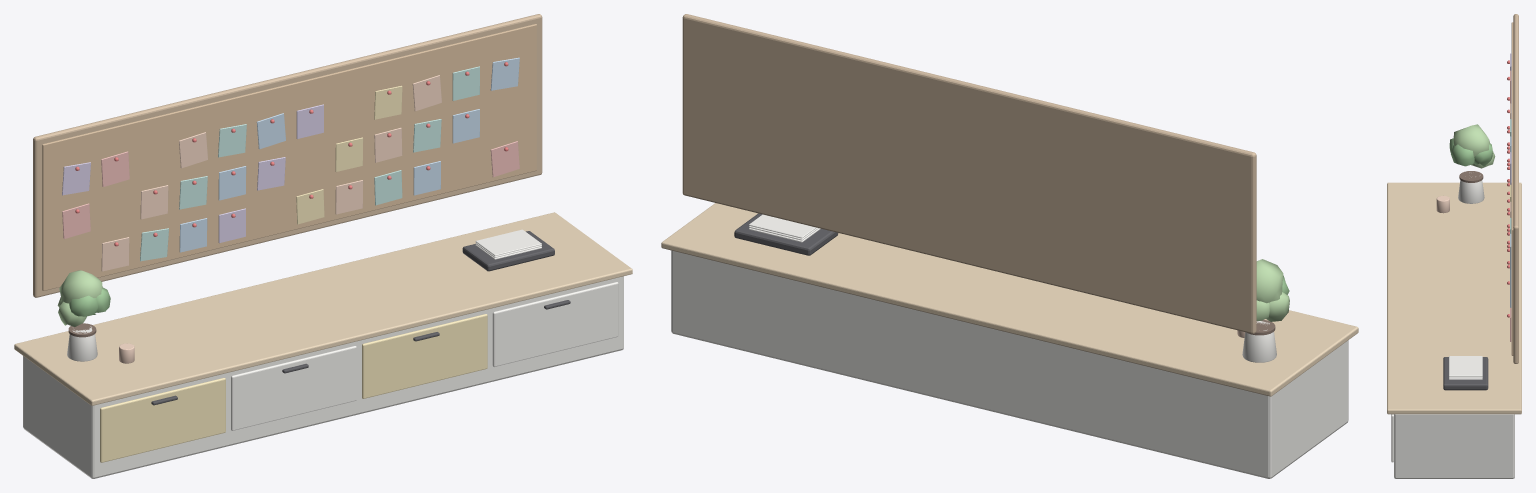
File: order.glb
3 renders of one model, left to right at view 1: azimuth 30°, elevation 25°; view 2: azimuth 150°, elevation 25°; view 3: azimuth 270°, elevation 25°, orthographic. The views are drawn at different scales.
Parts seen in each view (by area): view 1: order_cork, order_oak, order_white, order_butter, order_oak_edge, order_peach, order_mint, order_sky, order_lilac, order_coral, order_black, order_leaf_light (+2 smaller); view 2: order_oak_edge, order_white, order_oak, order_leaf_light, order_black, order_paper; view 3: order_oak, order_white, order_oak_edge, order_cork, order_leaf_light, order_black, order_paper, order_leaf, order_pin_red, order_peach, order_soil, order_sky.
Boxes of the visible parts, x1,y1,x2,y2 form: order_cork: [42, 24, 536, 290]; order_oak: [14, 212, 632, 405]; order_white: [23, 276, 623, 478]; order_butter: [100, 85, 487, 462]; order_oak_edge: [33, 14, 542, 297]; order_peach: [101, 75, 441, 363]; order_mint: [140, 66, 479, 261]; order_sky: [179, 57, 519, 252]; order_lilac: [62, 104, 323, 243]; order_coral: [62, 141, 519, 238]; order_black: [151, 231, 570, 405]; order_leaf_light: [57, 270, 102, 326]; order_oak_edge: [682, 14, 1256, 333]; order_white: [671, 250, 1348, 478]; order_oak: [661, 203, 1358, 396]; order_leaf_light: [1256, 259, 1289, 321]; order_black: [734, 213, 838, 255]; order_paper: [749, 214, 820, 242]; order_oak: [1387, 182, 1521, 414]; order_white: [1391, 172, 1514, 478]; order_oak_edge: [1513, 14, 1518, 363]; order_cork: [1511, 22, 1513, 355]; order_leaf_light: [1453, 124, 1495, 168]; order_black: [1443, 357, 1488, 390]; order_paper: [1449, 356, 1482, 379]; order_leaf: [1449, 138, 1492, 166]; order_pin_red: [1507, 60, 1509, 317]; order_peach: [1436, 103, 1511, 217]; order_soil: [1459, 171, 1483, 182]; order_sky: [1510, 136, 1511, 307].
Size of the model in its own units: 4.8 by 2.43 by 1.2.
